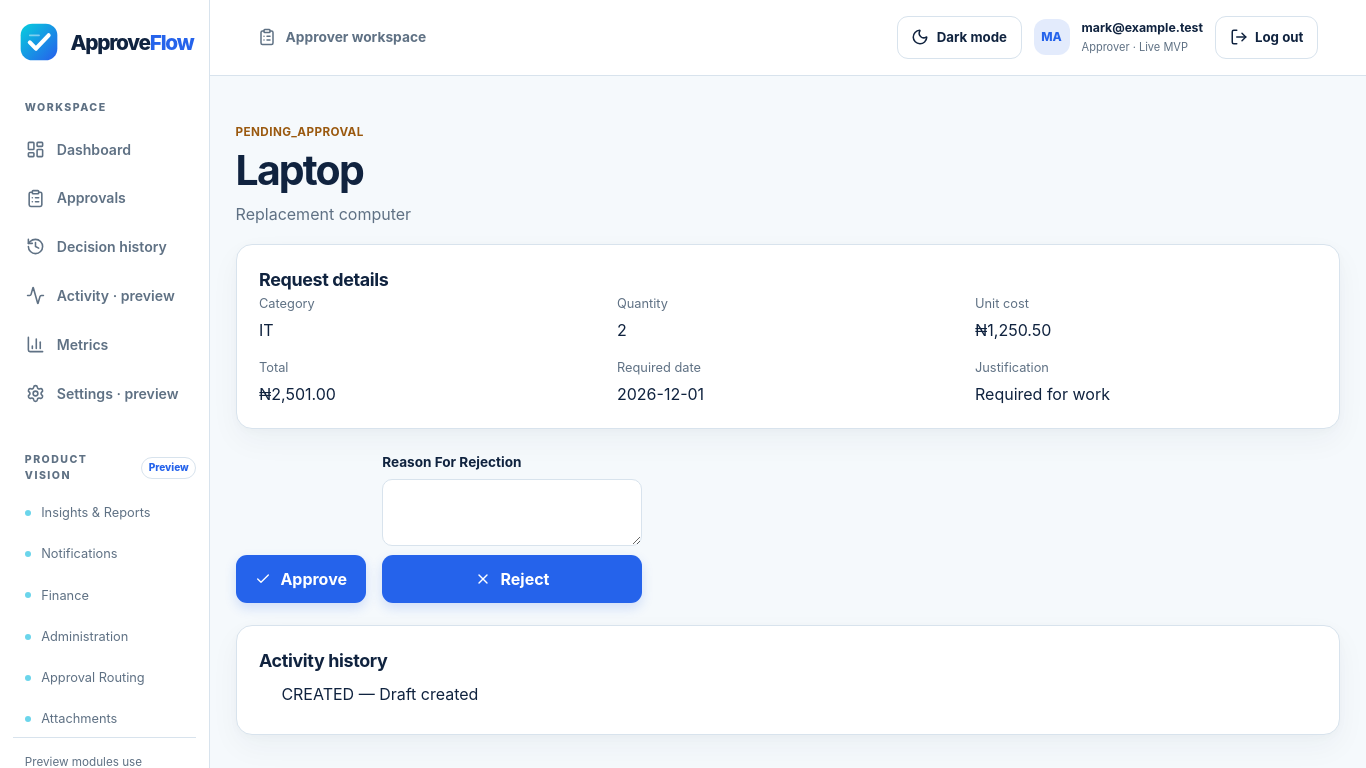
Test: G3 user journeys › renders approver inbox and retains APPROVED after decision
Step 1. Click the button "Approve" → [301, 578], box top-left (236, 554), bottom-right (366, 602)
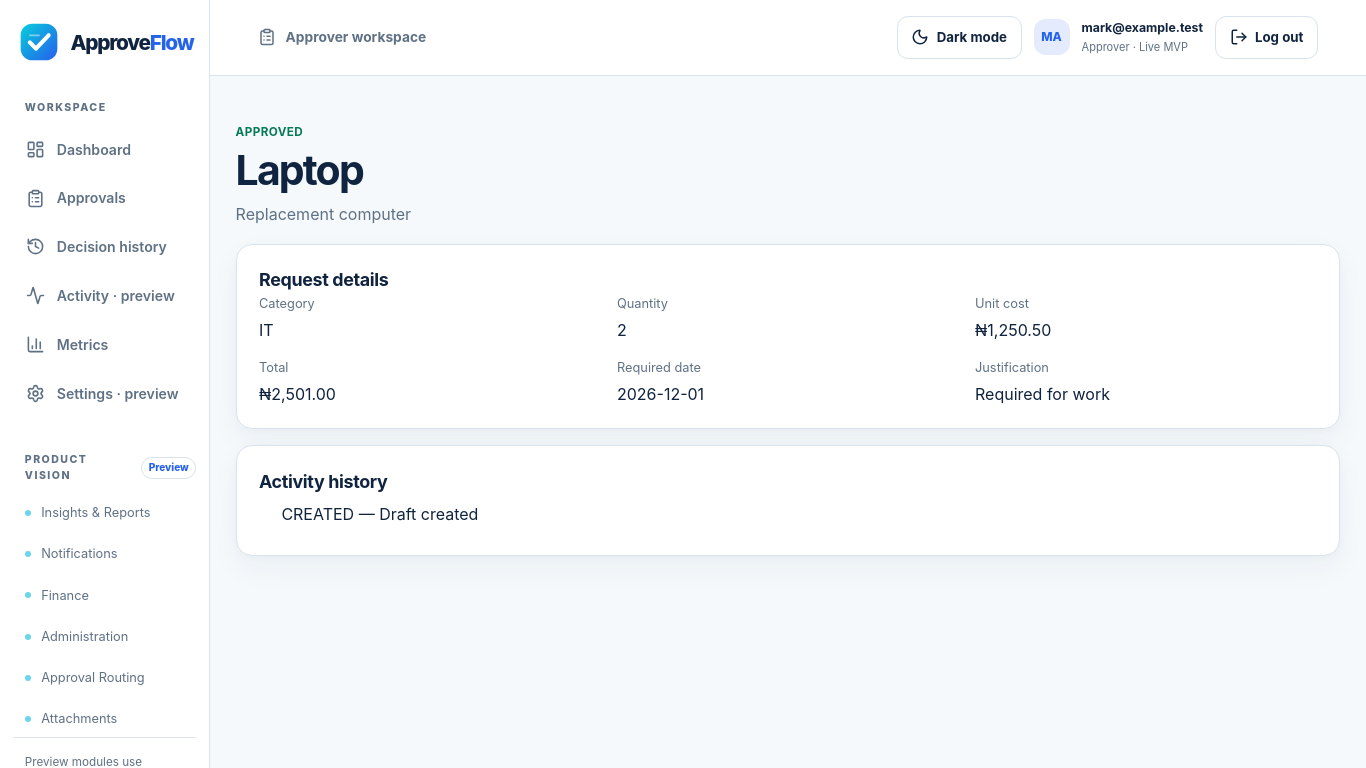
Now the text "APPROVED" is shown, box top-left (236, 124), bottom-right (303, 141)
